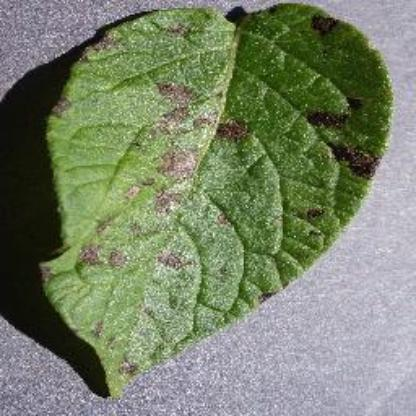Early-Blight: (25, 0, 416, 404)
